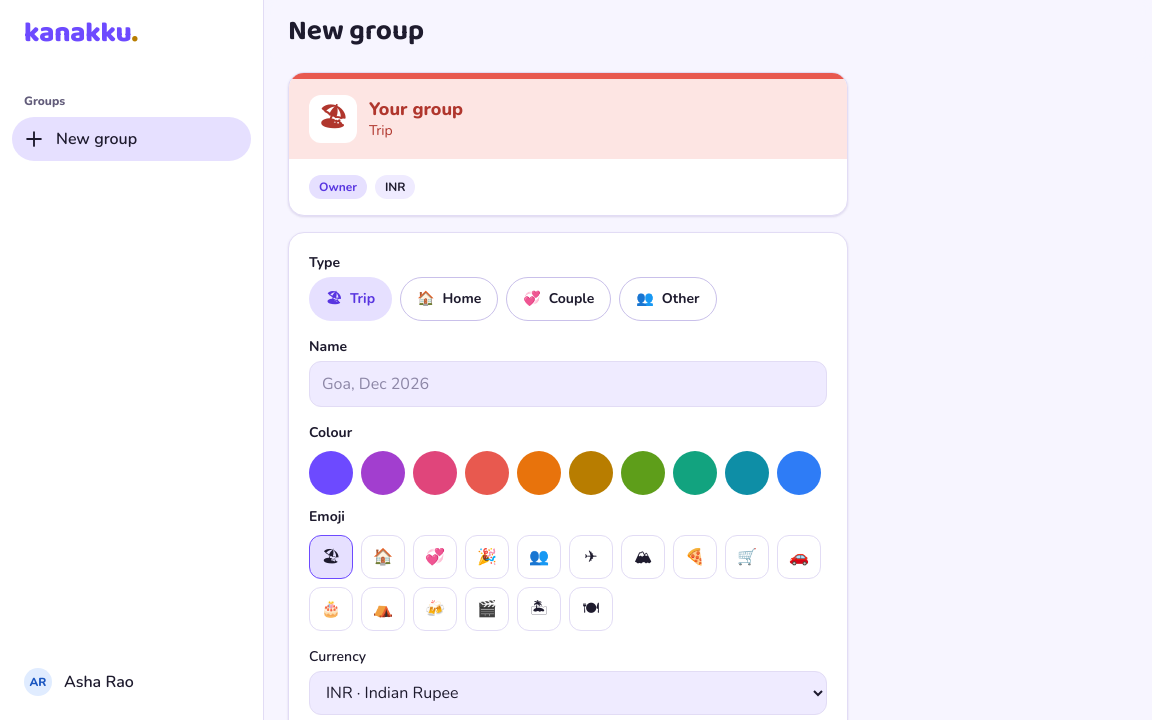
Test case: NewGroupPage › shows the chosen colour with a ring and a check, and the others without
The image size is (1152, 720).
Expected: the heading "New group" is shown, left=288, top=15, right=424, bottom=49
Click the radio button named "Mango".
click(591, 473)  # box left=569, top=451, right=613, bottom=495
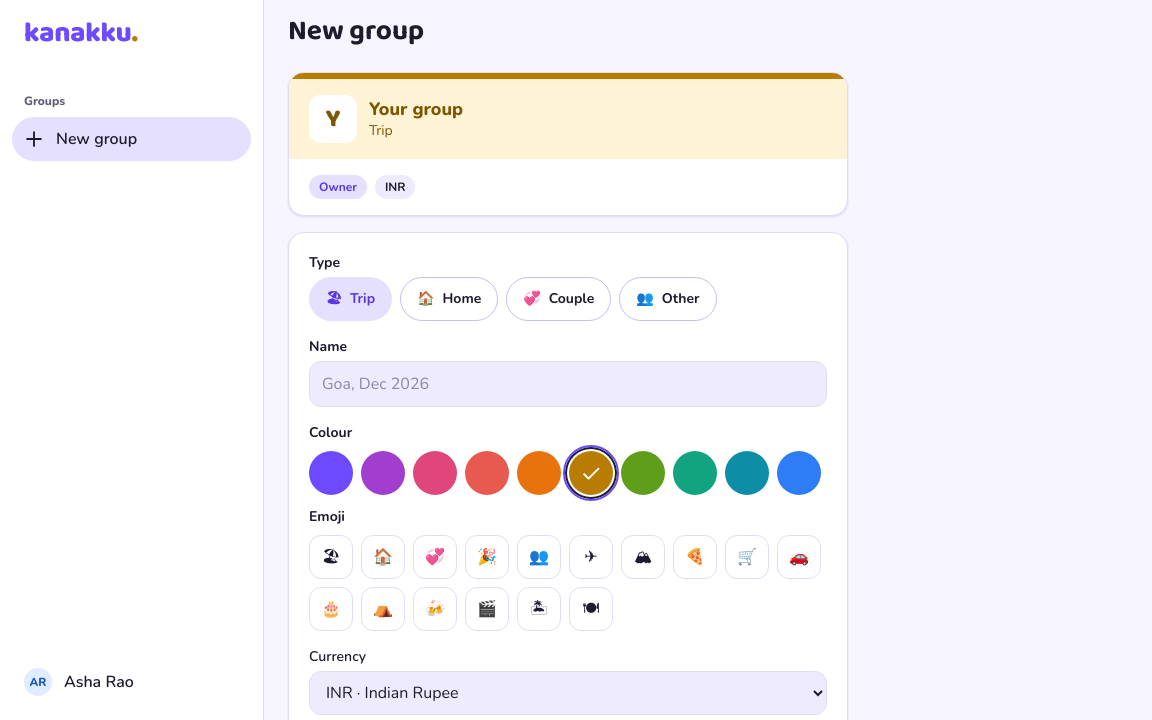
Now the icon below "Colour" is shown, box left=581, top=463, right=601, bottom=483
